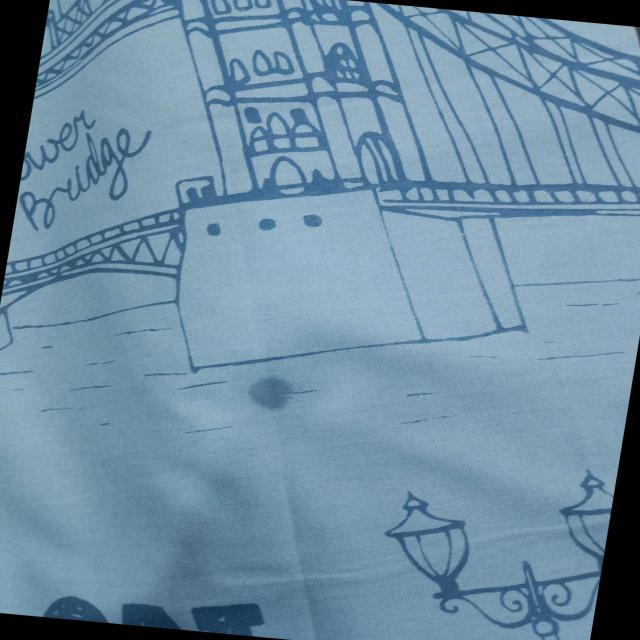stain: (240, 364, 302, 419)
